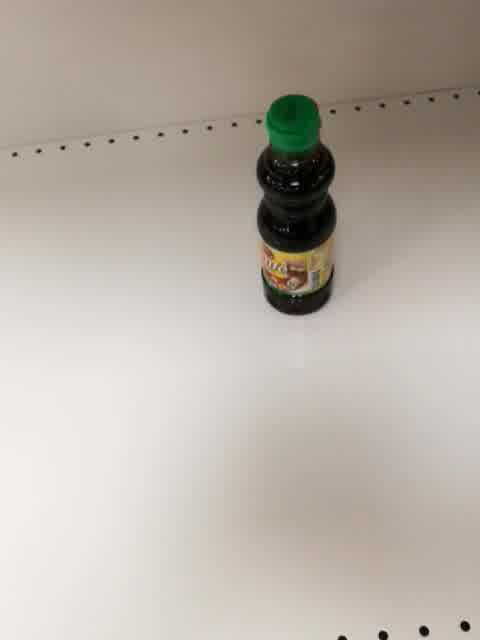cookingoil: (253, 91, 340, 318)
